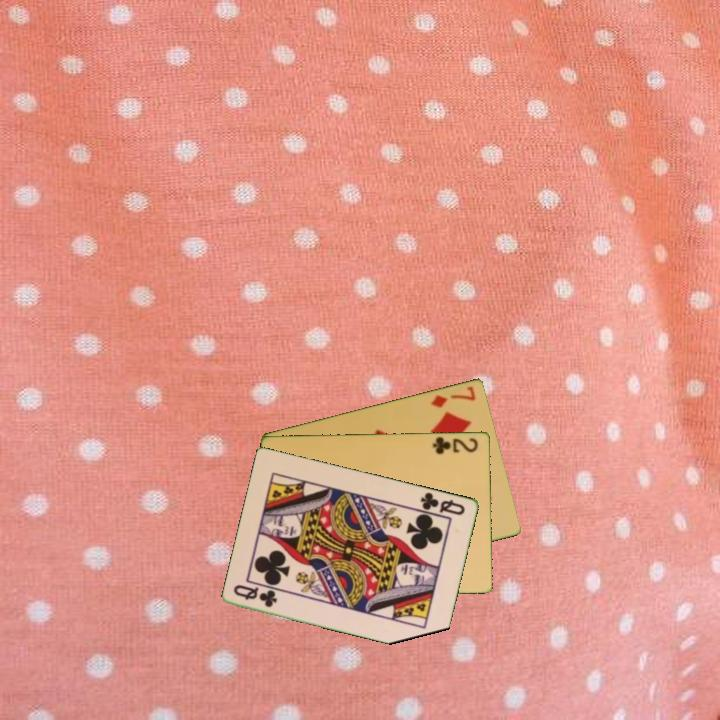2c: (429, 433, 481, 457)
7d: (427, 382, 479, 410)
Qc: (417, 489, 468, 518), (230, 581, 281, 610)
